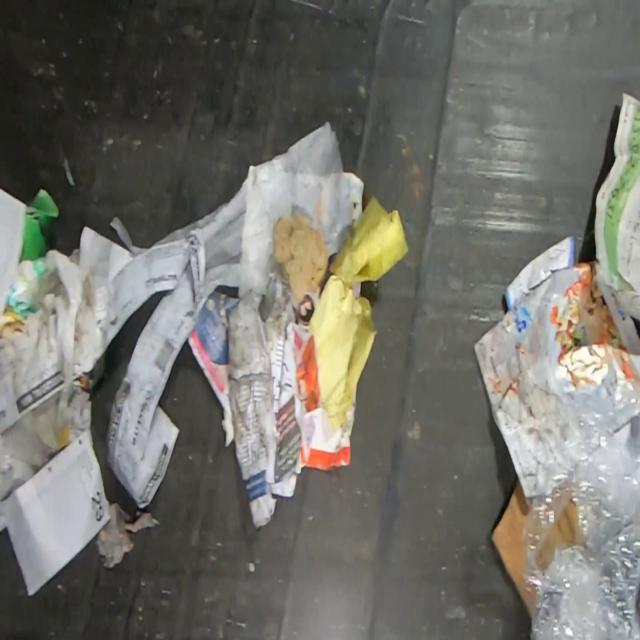cardboard: (489, 479, 535, 619)
soft_plastic: (518, 413, 640, 638)
